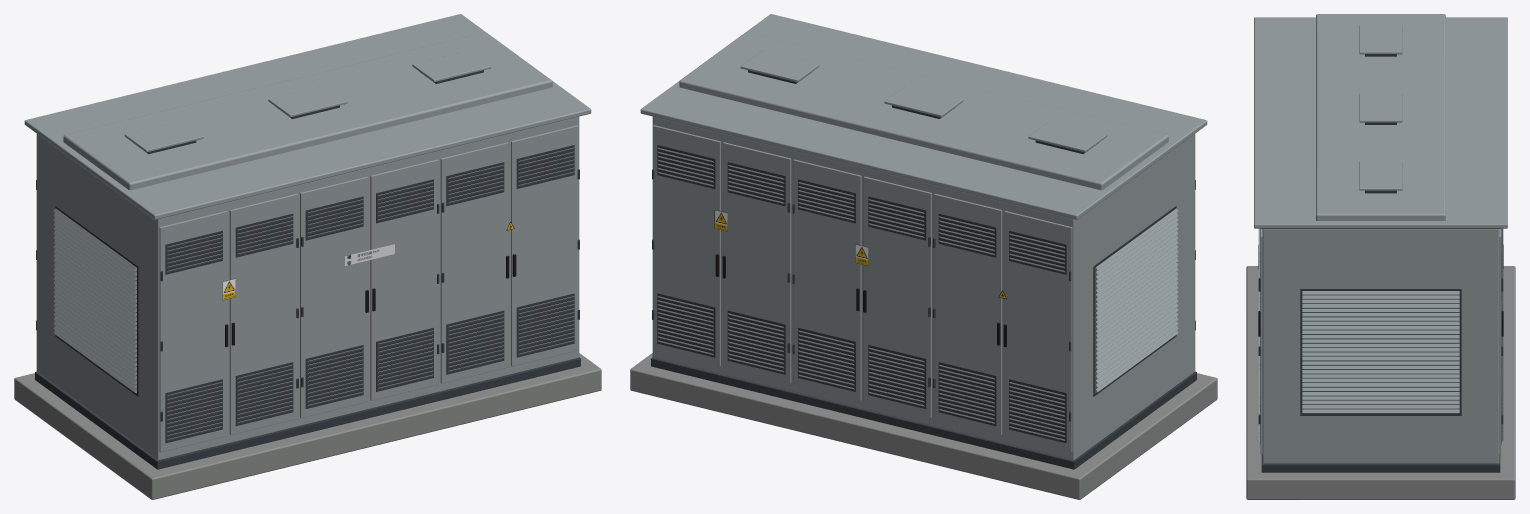
Rendered from box-transformer.glb.
3 renders of one model, left to right at view 1: azimuth 30°, elevation 25°; view 2: azimuth 150°, elevation 25°; view 3: azimuth 270°, elevation 25°, orthographic. The views are drawn at different scales.
Visible parts, largest first — view 1: 箱变本体; view 2: 箱变本体; view 3: 箱变本体.
Part boxes in pixels (bbox=[...]): 箱变本体: bbox=[14, 14, 601, 499]; 箱变本体: bbox=[630, 14, 1217, 499]; 箱变本体: bbox=[1246, 14, 1515, 499].
Size of the model in its own units: 4.7 by 2.94 by 2.5.
Materials: 5 (1 with a texture image).
